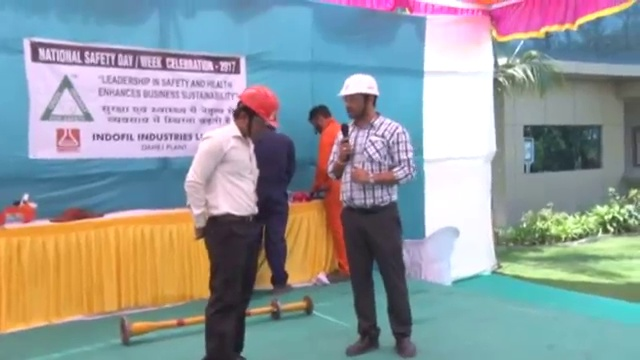helmet: (238, 83, 280, 131), (337, 72, 381, 100)
helmet_off: (305, 102, 335, 134)
helmet_on: (229, 82, 282, 144), (336, 73, 382, 128)
person: (182, 82, 281, 358), (326, 73, 420, 357), (304, 102, 351, 282), (252, 122, 297, 294)
